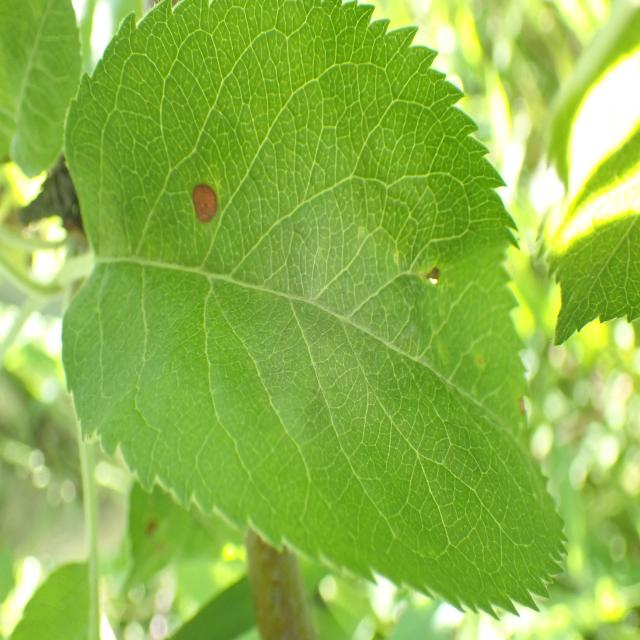Black Rot: (402, 237, 455, 317), (178, 158, 233, 228)
